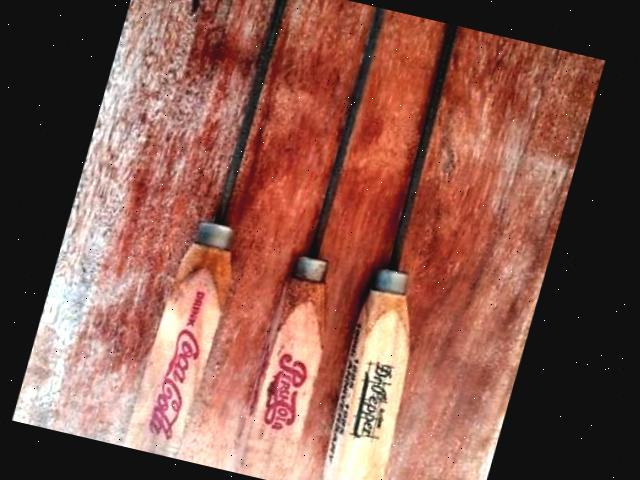ice pick: (313, 22, 507, 480), (234, 3, 418, 480), (123, 0, 311, 459)
